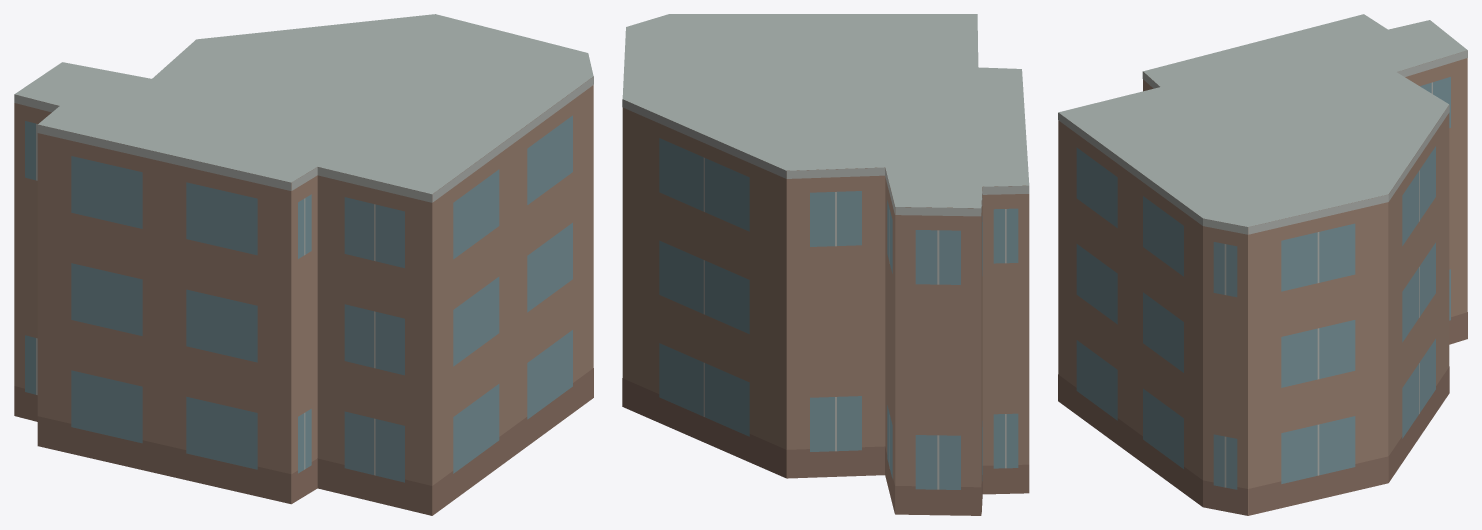
The model's file is survey-upis-32663467.glb.
The picture shows the model from 3 angles, left to right: view 1: azimuth 30°, elevation 25°; view 2: azimuth 150°, elevation 25°; view 3: azimuth 270°, elevation 25°; orthographic projection. The views are drawn at different scales.
Visible parts, largest first — view 1: survey-upis-32663467.tmp; view 2: survey-upis-32663467.tmp; view 3: survey-upis-32663467.tmp.
Part boxes in pixels (<box>): survey-upis-32663467.tmp: <box>14,14,593,515</box>; survey-upis-32663467.tmp: <box>622,14,1029,515</box>; survey-upis-32663467.tmp: <box>1058,14,1467,515</box>.
Size of the model in its own units: 14.49 by 9.15 by 11.77.
